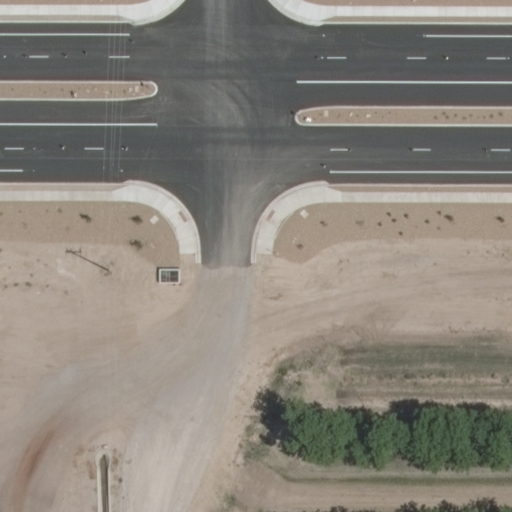DT: (95, 260, 115, 278)
